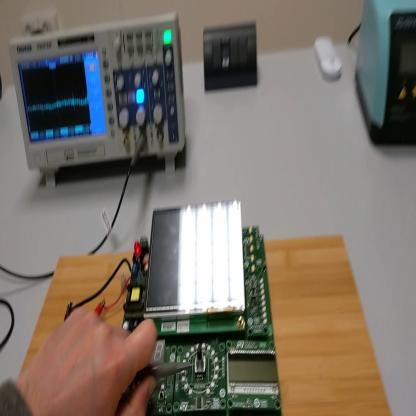hand: (18, 310, 160, 414)
low voltage board: (75, 195, 285, 416)
oscilloscope: (9, 12, 185, 192)
oscilloscope probe tip: (136, 360, 195, 383)
welder station: (355, 4, 415, 147)
working area: (19, 233, 392, 414)
